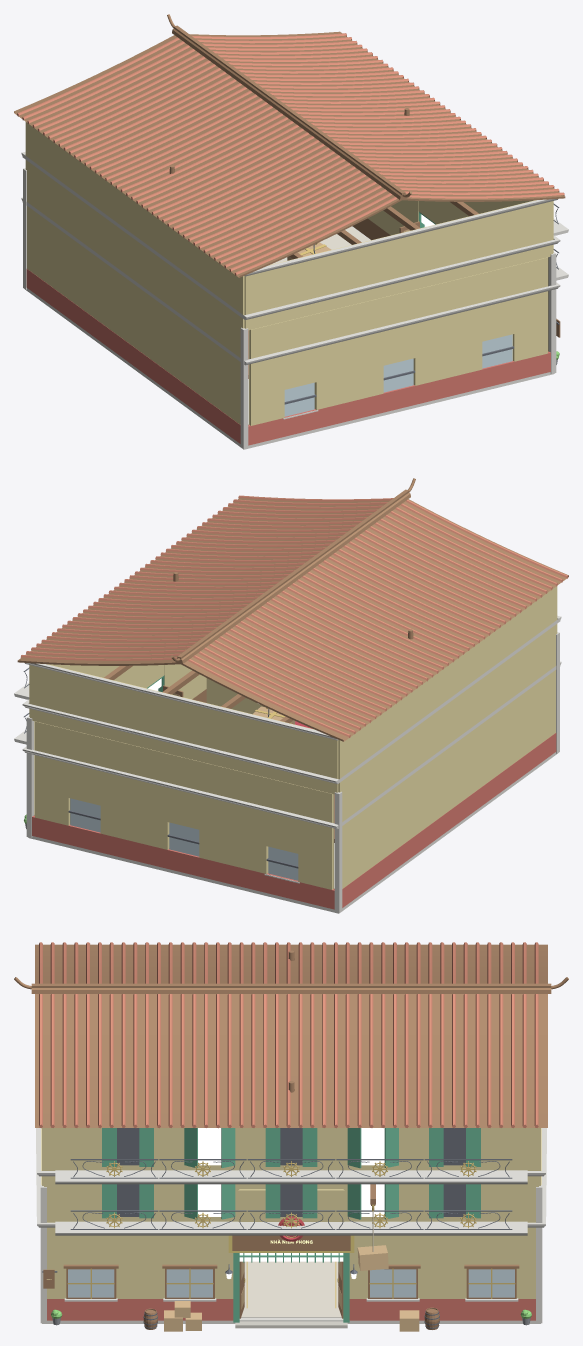
The model's file is SM_House_BlindBox.fbx.
The picture shows the model from 3 angles, top to bottom: view 1: azimuth 30°, elevation 25°; view 2: azimuth 150°, elevation 25°; view 3: azimuth 270°, elevation 25°; orthographic projection. The views are drawn at different scales.
Visible parts, largest first — view 1: Concept_YinYangRoof_BarrelTiles, Concept_YinYangRoof_TimberDeck, Ext_BackUp, F2_Ext_SideS, F2_Ext_Back, Ext_SideL_Low, Ext_BackLow, Ext_SideL_PierL_0, Ext_SideL_PierR_1, Ext_SideL_PierR_0, Ext_SideL_PierR_2, Ext_SideL_PierL_2 (+16 smaller); view 2: Concept_YinYangRoof_BarrelTiles, Concept_YinYangRoof_TimberDeck, Ext_BackUp, F2_Ext_SideN, F2_Ext_Back, Ext_SideR_Low, Ext_BackLow, Ext_SideR_PierL_0, Ext_SideR_PierR_1, Ext_SideR_PierR_0, Ext_SideR_PierL_2, Ext_SideR_PierL_1 (+17 smaller); view 3: Concept_YinYangRoof_TimberDeck, Concept_YinYangRoof_BarrelTiles, F2_Ext_Front, Ext_FrontL_Up, Ext_FrontR_Up, Concept_YinYangRoof_RidgeBeam, Floor_EncausticTile, F3_BalDeck, F2_BalDeck, Ext_FrontR_Low, Ext_FrontL_Low, F3_BalMould (+46 smaller).
Boxes of the visible parts, <box> form: Concept_YinYangRoof_BarrelTiles: <box>17,33,564,275</box>; Concept_YinYangRoof_TimberDeck: <box>14,31,565,277</box>; Ext_BackUp: <box>27,173,240,424</box>; F2_Ext_SideS: <box>244,200,552,330</box>; F2_Ext_Back: <box>25,122,244,328</box>; Ext_SideL_Low: <box>248,352,550,445</box>; Ext_BackLow: <box>26,269,240,443</box>; Ext_SideL_PierL_0: <box>249,322,284,425</box>; Ext_SideL_PierR_1: <box>414,281,448,385</box>; Ext_SideL_PierR_0: <box>315,305,349,409</box>; Ext_SideL_PierR_2: <box>513,257,547,361</box>; Ext_SideL_PierL_2: <box>449,273,482,377</box>; Concept_YinYangRoof_BarrelTiles: <box>20,495,568,737</box>; Concept_YinYangRoof_TimberDeck: <box>17,496,568,741</box>; Ext_BackUp: <box>342,637,555,888</box>; F2_Ext_SideN: <box>30,664,338,794</box>; F2_Ext_Back: <box>338,586,557,792</box>; Ext_SideR_Low: <box>32,816,334,909</box>; Ext_BackLow: <box>342,733,556,907</box>; Ext_SideR_PierL_0: <box>298,786,333,889</box>; Ext_SideR_PierR_1: <box>134,745,168,849</box>; Ext_SideR_PierR_0: <box>233,769,267,873</box>; Ext_SideR_PierL_2: <box>100,737,133,841</box>; Ext_SideR_PierL_1: <box>199,761,232,865</box>; Concept_YinYangRoof_TimberDeck: <box>35,944,547,1127</box>; Concept_YinYangRoof_BarrelTiles: <box>39,942,538,1128</box>; F2_Ext_Front: <box>44,1128,538,1189</box>; Ext_FrontL_Up: <box>47,1189,239,1298</box>; Ext_FrontR_Up: <box>343,1189,535,1298</box>; Concept_YinYangRoof_RidgeBeam: <box>31,983,551,993</box>; Floor_EncausticTile: <box>241,1261,341,1317</box>; F3_BalDeck: <box>55,1170,527,1179</box>; F2_BalDeck: <box>55,1221,527,1231</box>; Ext_FrontR_Low: <box>349,1299,535,1320</box>; Ext_FrontL_Low: <box>47,1299,233,1320</box>; F3_BalMould: <box>55,1180,527,1184</box>.
Bounding box in the file's own units: 20.98 × 12.67 × 24.46.
